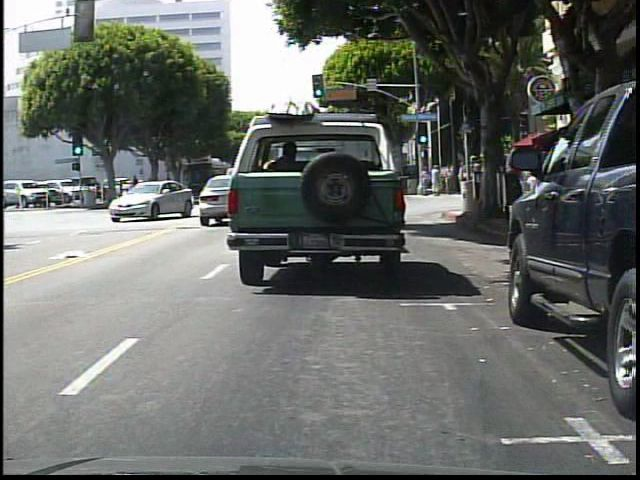person: (430, 161, 442, 194), (445, 162, 455, 194), (419, 166, 429, 195)
